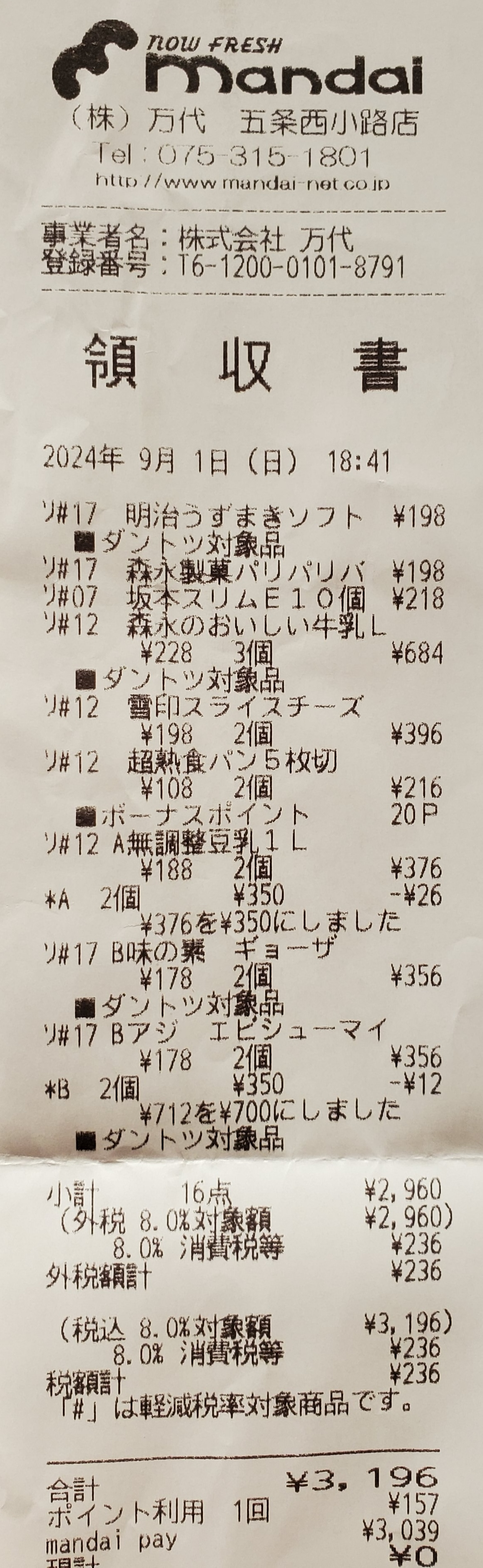Date: (36, 429, 243, 485)
Shopname: (138, 23, 463, 106)
Telnum: (156, 134, 380, 174)
Totalpay: (43, 1466, 454, 1499)
